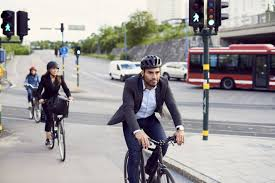no-mask: (139, 55, 163, 88), (46, 61, 60, 78), (27, 65, 38, 76)
